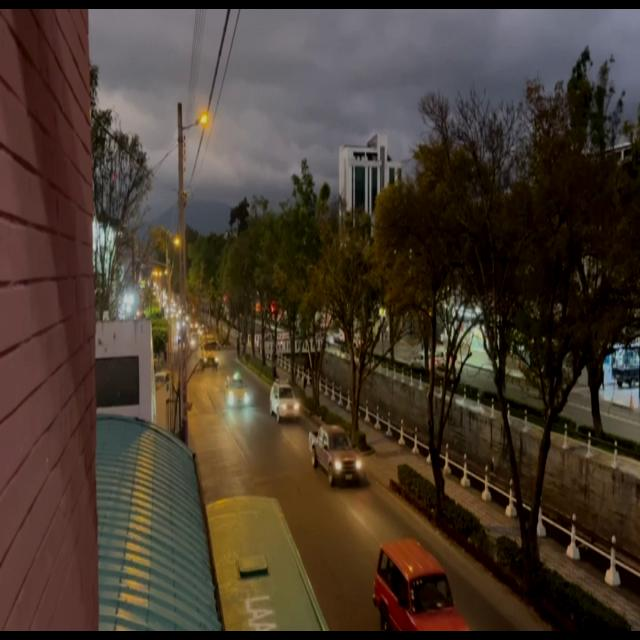CMT: (311, 430, 364, 485)
SED: (226, 378, 250, 406)
SUV: (380, 546, 471, 640), (272, 385, 299, 422)
TRUCK: (201, 336, 219, 370)
